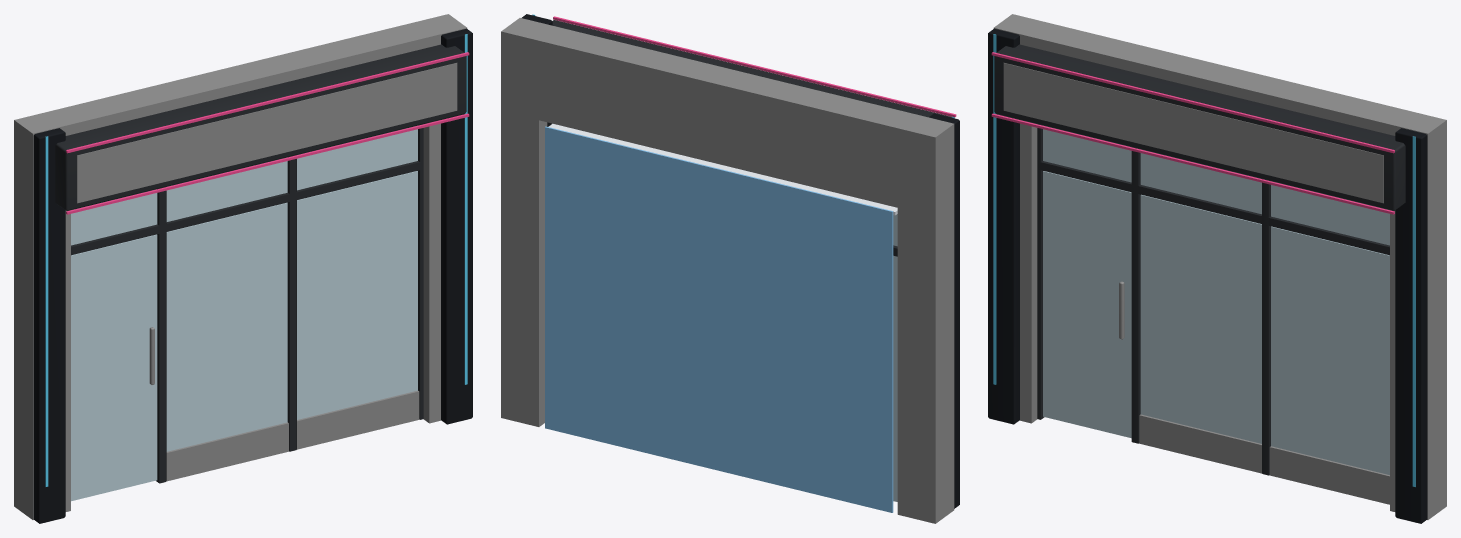
File: Building_Facade_Panel_Shop_Glass.fbx
3 renders of one model, left to right at view 1: azimuth 30°, elevation 25°; view 2: azimuth 150°, elevation 25°; view 3: azimuth 330°, elevation 25°, orthographic.
Visible parts, largest first — view 1: Building_Facade_Panel_Shop_Glass_LOD0; view 2: Building_Facade_Panel_Shop_Glass_LOD0; view 3: Building_Facade_Panel_Shop_Glass_LOD0.
Boxes of the visible parts, x1,y1,x2,y2 form: Building_Facade_Panel_Shop_Glass_LOD0: [14, 14, 472, 523]; Building_Facade_Panel_Shop_Glass_LOD0: [501, 14, 959, 523]; Building_Facade_Panel_Shop_Glass_LOD0: [988, 14, 1446, 523].
Size of what is drawn, in the model's own units: 4 by 3.4 by 0.59.
